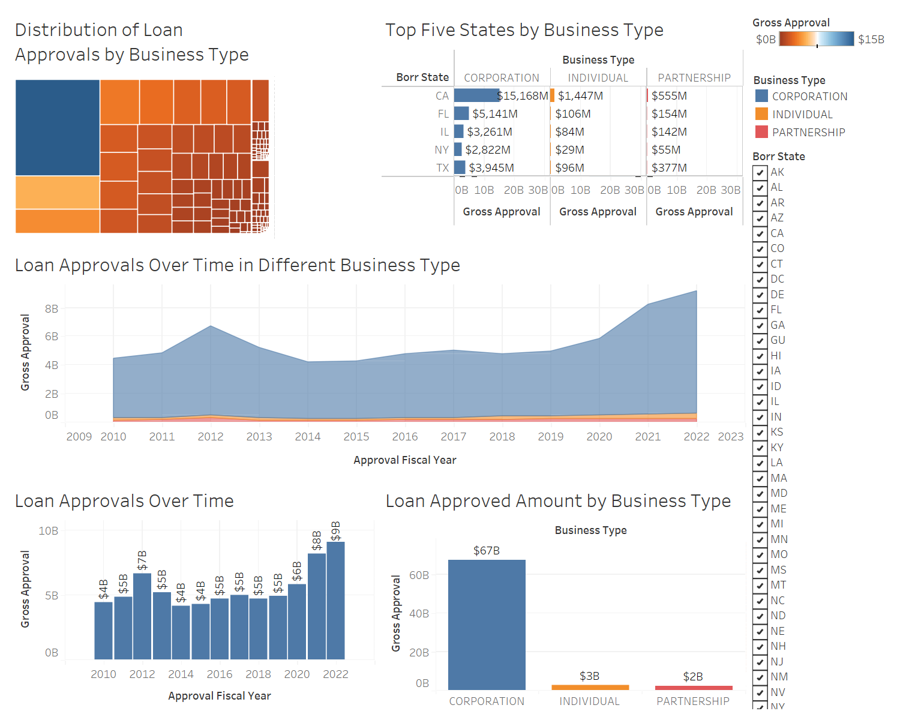

The dashboard page shown, as its layout file describes it:
{"tool":"tableau","page":{"name":"Loan Approval Analysis Dashboard","canvas":[1000,800],"ordinal":3},"visuals":[{"type":"worksheet","title":"Distribution of Loan Approvals by Business Type","mark":"Automatic","box":[8,8,412,261.3]},{"type":"worksheet","title":"Top Five States by Business Type","mark":"Automatic","rows":["BorrState"],"cols":["BusinessType","GrossApproval"],"box":[420,8,412,261.3]},{"type":"legend","title":"Distribution of Loan Approvals by Business Type","param":"[federated.0yx7p9v0747fy216yllo80zm79sv].[sum:GrossApproval:qk]","box":[832,8,160,65]},{"type":"legend","title":"Loan Approved Amount by Business Type","param":"[federated.0yx7p9v0747fy216yllo80zm79sv].[none:BusinessType:nk]","box":[832,73,160,86]},{"type":"filter","title":"Loan Approvals Over Time","param":"[federated.0yx7p9v0747fy216yllo80zm79sv].[none:BorrState:nk]","box":[832,159,160,633]},{"type":"worksheet","title":"Loan Approvals Over Time in Different Business Type","mark":"Area","rows":["GrossApproval"],"cols":["ApprovalFiscalYear"],"box":[8,269.3,824,261.4]},{"type":"worksheet","title":"Loan Approvals Over Time","mark":"Bar","rows":["GrossApproval"],"cols":["ApprovalFiscalYear"],"box":[8,530.7,412,261.3]},{"type":"worksheet","title":"Loan Approved Amount by Business Type","mark":"Automatic","rows":["GrossApproval"],"cols":["BusinessType"],"box":[420,530.7,412,261.3]}]}

Visuals, with their boxes in screenshot pixels (x1, y1, x2, y2), scaled from the page's 1000x800 canvas onto the 900x720 screenshot:
"Distribution of Loan Approvals by Business Type" worksheet: box(7, 7, 378, 242)
"Top Five States by Business Type" worksheet: box(378, 7, 749, 242)
"Distribution of Loan Approvals by Business Type" legend: box(749, 7, 893, 66)
"Loan Approved Amount by Business Type" legend: box(749, 66, 893, 143)
"Loan Approvals Over Time" filter: box(749, 143, 893, 713)
"Loan Approvals Over Time in Different Business Type" worksheet (Area marks): box(7, 242, 749, 478)
"Loan Approvals Over Time" worksheet (Bar marks): box(7, 478, 378, 713)
"Loan Approved Amount by Business Type" worksheet: box(378, 478, 749, 713)
